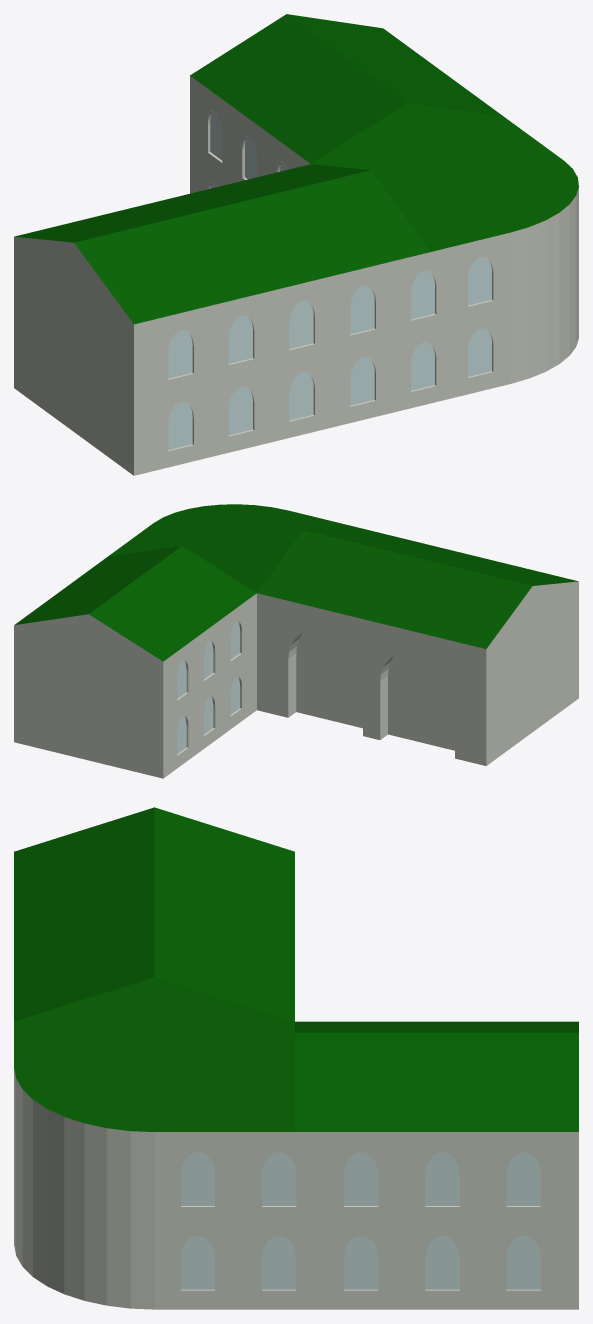
File: eight.gltf
The picture shows the model from 3 angles, top to bottom: view 1: azimuth 30°, elevation 25°; view 2: azimuth 150°, elevation 25°; view 3: azimuth 270°, elevation 25°; orthographic projection. The views are drawn at different scales.
Visible parts, largest first — view 1: Cube.001; view 2: Cube.001; view 3: Cube.001.
Part boxes in pixels (x1,y1,x2,y2): Cube.001: (14,14,578,475); Cube.001: (14,504,578,778); Cube.001: (14,807,578,1309).
Bounding box in the file's own units: 1.18 × 0.4348 × 1.
